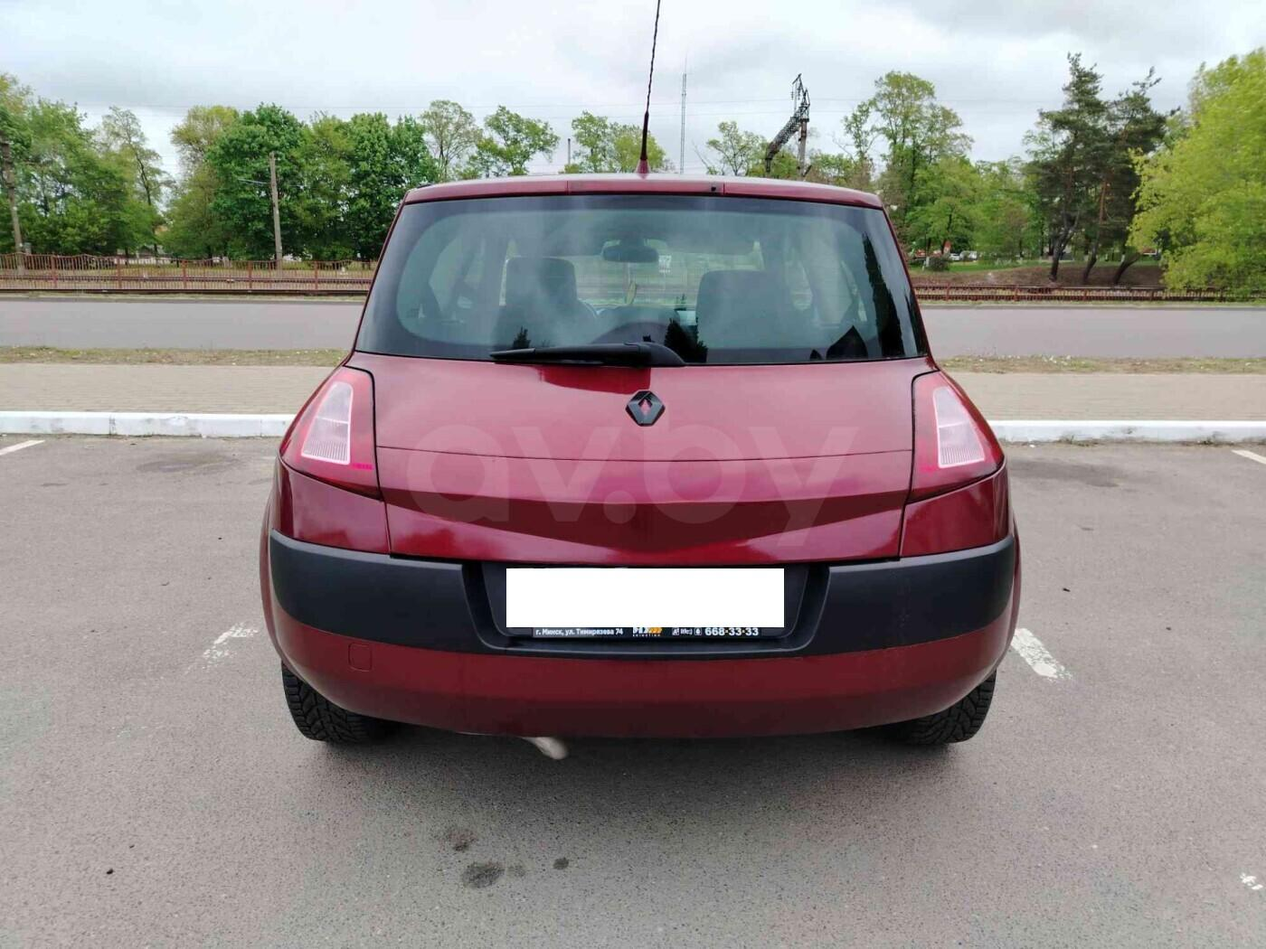Megane_2002-2006: (257, 179, 1027, 742)
